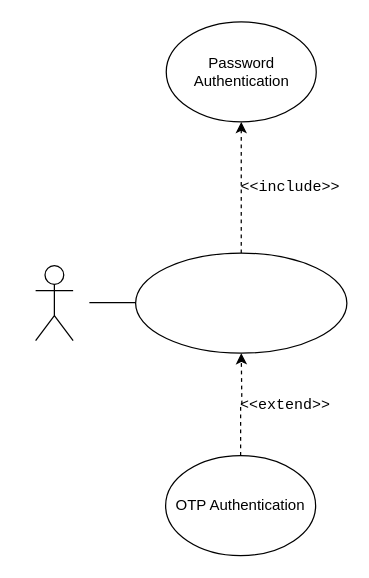
This 369x578 diagram has some shape labels left out. Here are the shapes that lost their labels. From the top down, the centre of each, then its label:
At point 53,302: "Employee".
At point 240,302: "Authenticate to Application".
